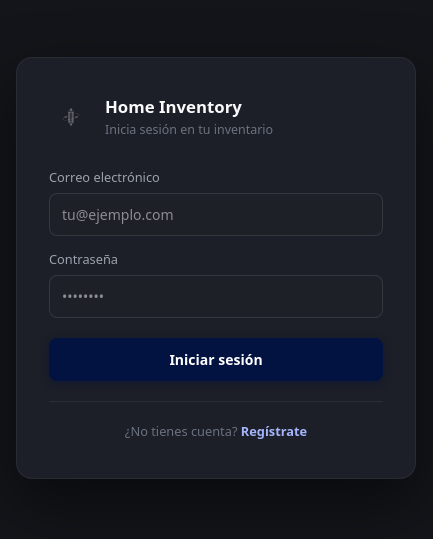
it: Auth page › toggles to register when clicking the link
This screenshot has width=433, height=539.
Click the text "Regístrate" at (274, 431), box left=241, top=422, right=307, bottom=440
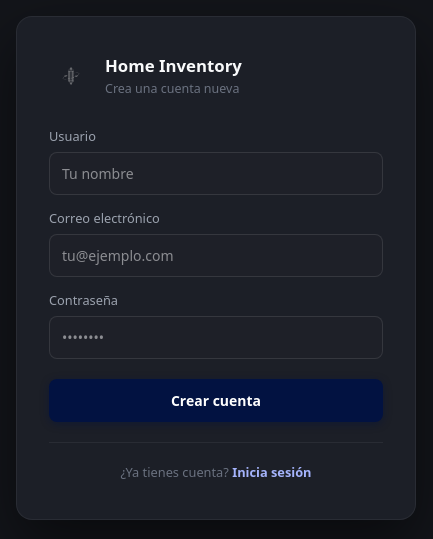
Check: the field labelled "Usuario" is shown, box left=49, top=152, right=383, bottom=195
Check: the button "Crear cuenta" is shown, box left=49, top=379, right=383, bottom=422
